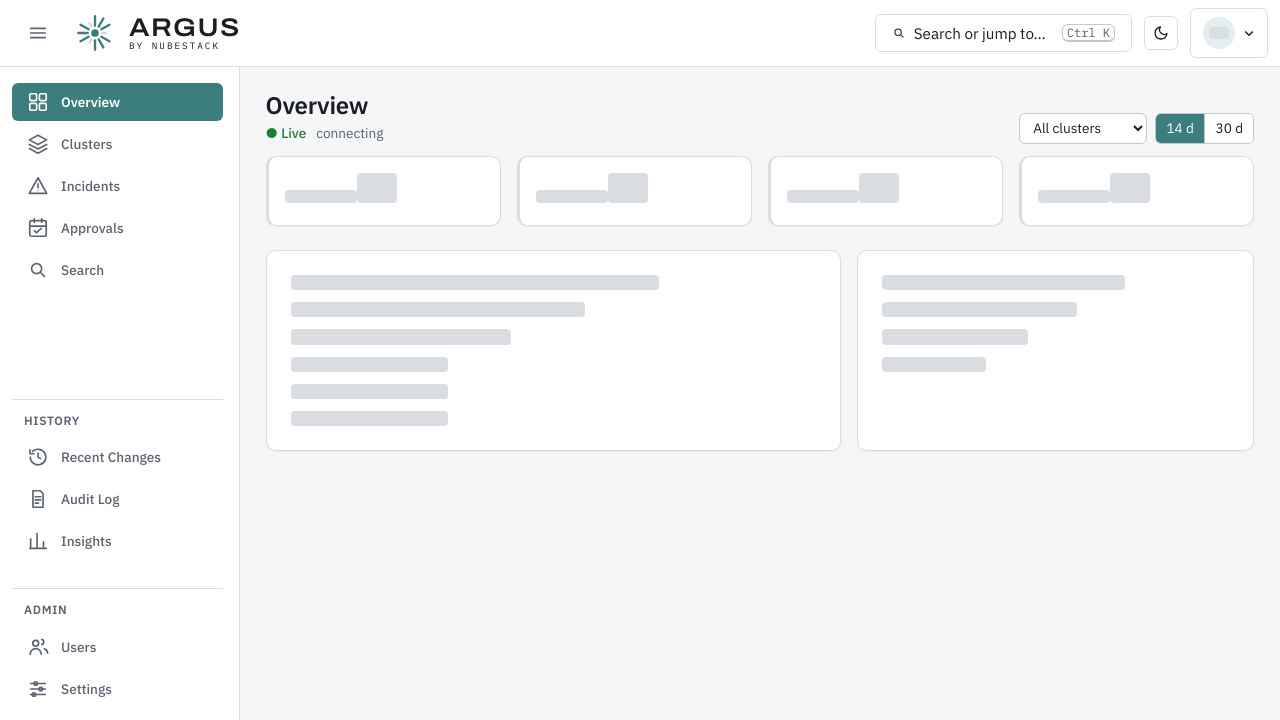
Test: App — the account control names the session honestly and always offers sign out › still offers the menu, with no name and no invented placeholder, while the identity is loading
Click the button named "Account menu" at (1229, 33), box [1190,8,1268,58]
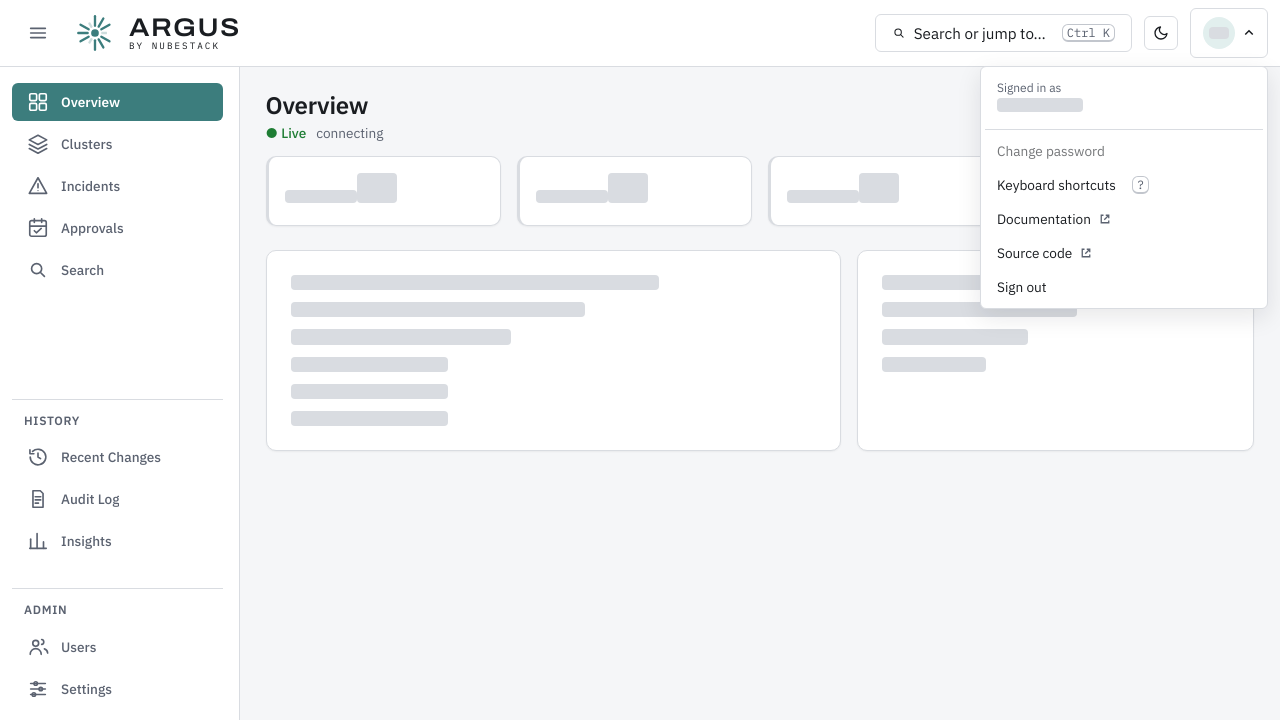
Now the menu item "Sign out" is shown, box [985,270,1263,304]
